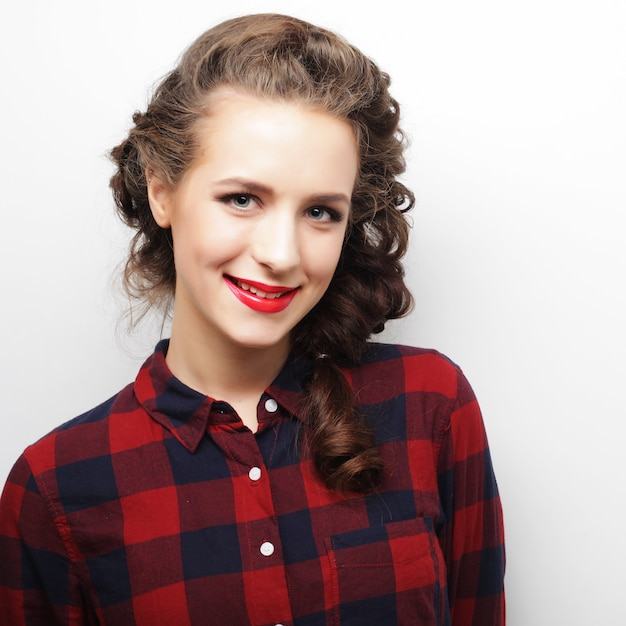teen: (129, 24, 408, 347)
